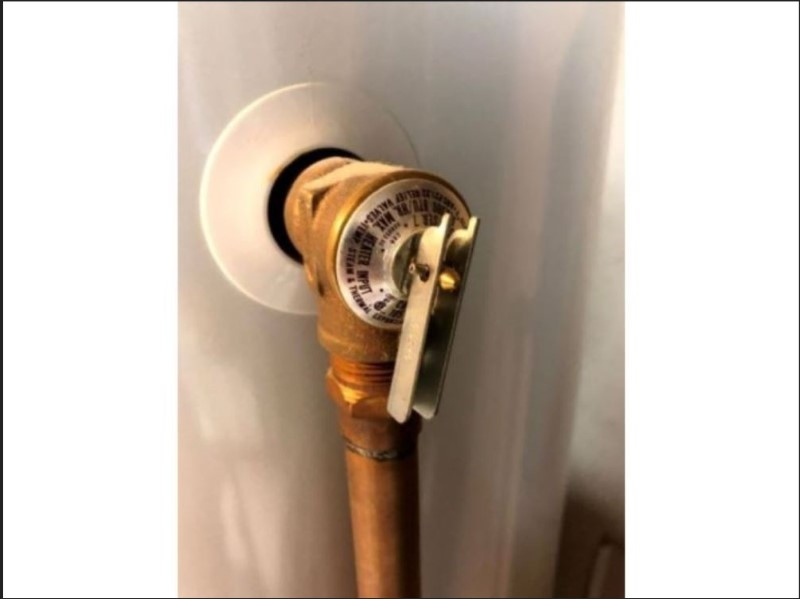Valve: (329, 168, 480, 430)
